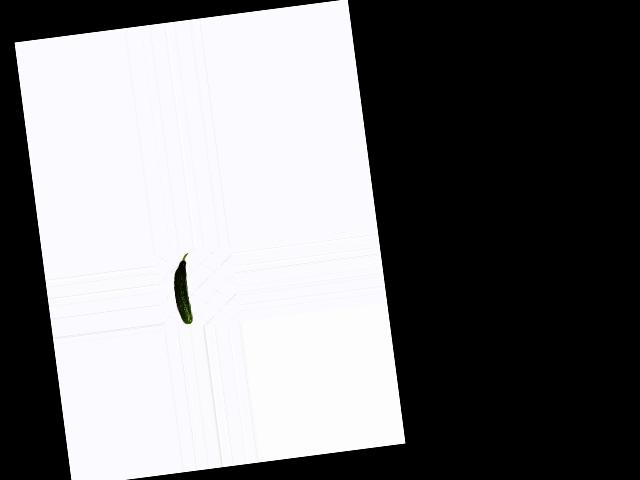cucumber: (170, 252, 196, 324)
